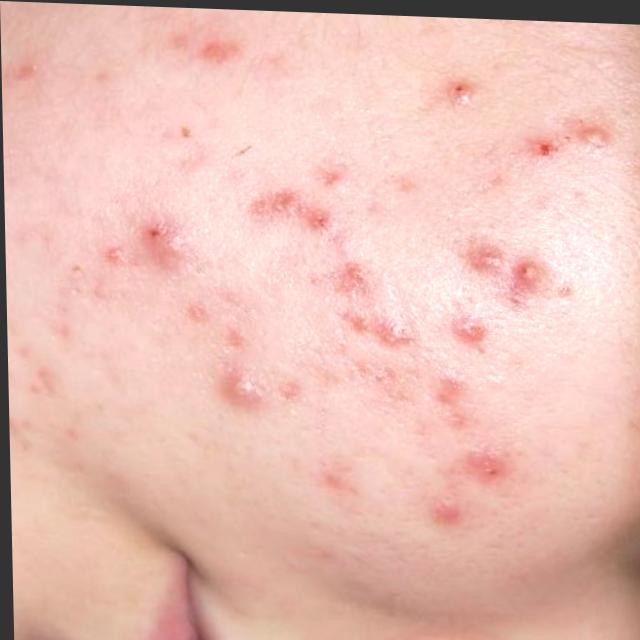8: (452, 224, 517, 284), (128, 204, 191, 261), (503, 237, 553, 296), (403, 488, 472, 526), (458, 447, 517, 476), (431, 308, 477, 339)
9: (201, 336, 273, 428), (566, 98, 622, 159)
blackheads: (246, 178, 341, 234), (182, 18, 258, 76), (13, 352, 69, 408), (334, 360, 405, 404)
